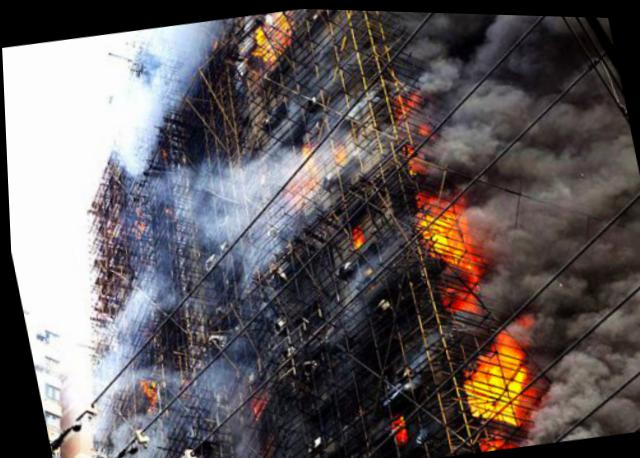fire: (410, 184, 473, 264), (458, 357, 515, 423), (472, 329, 528, 384), (442, 286, 475, 311), (249, 23, 269, 53), (385, 410, 402, 438), (346, 224, 362, 246)
